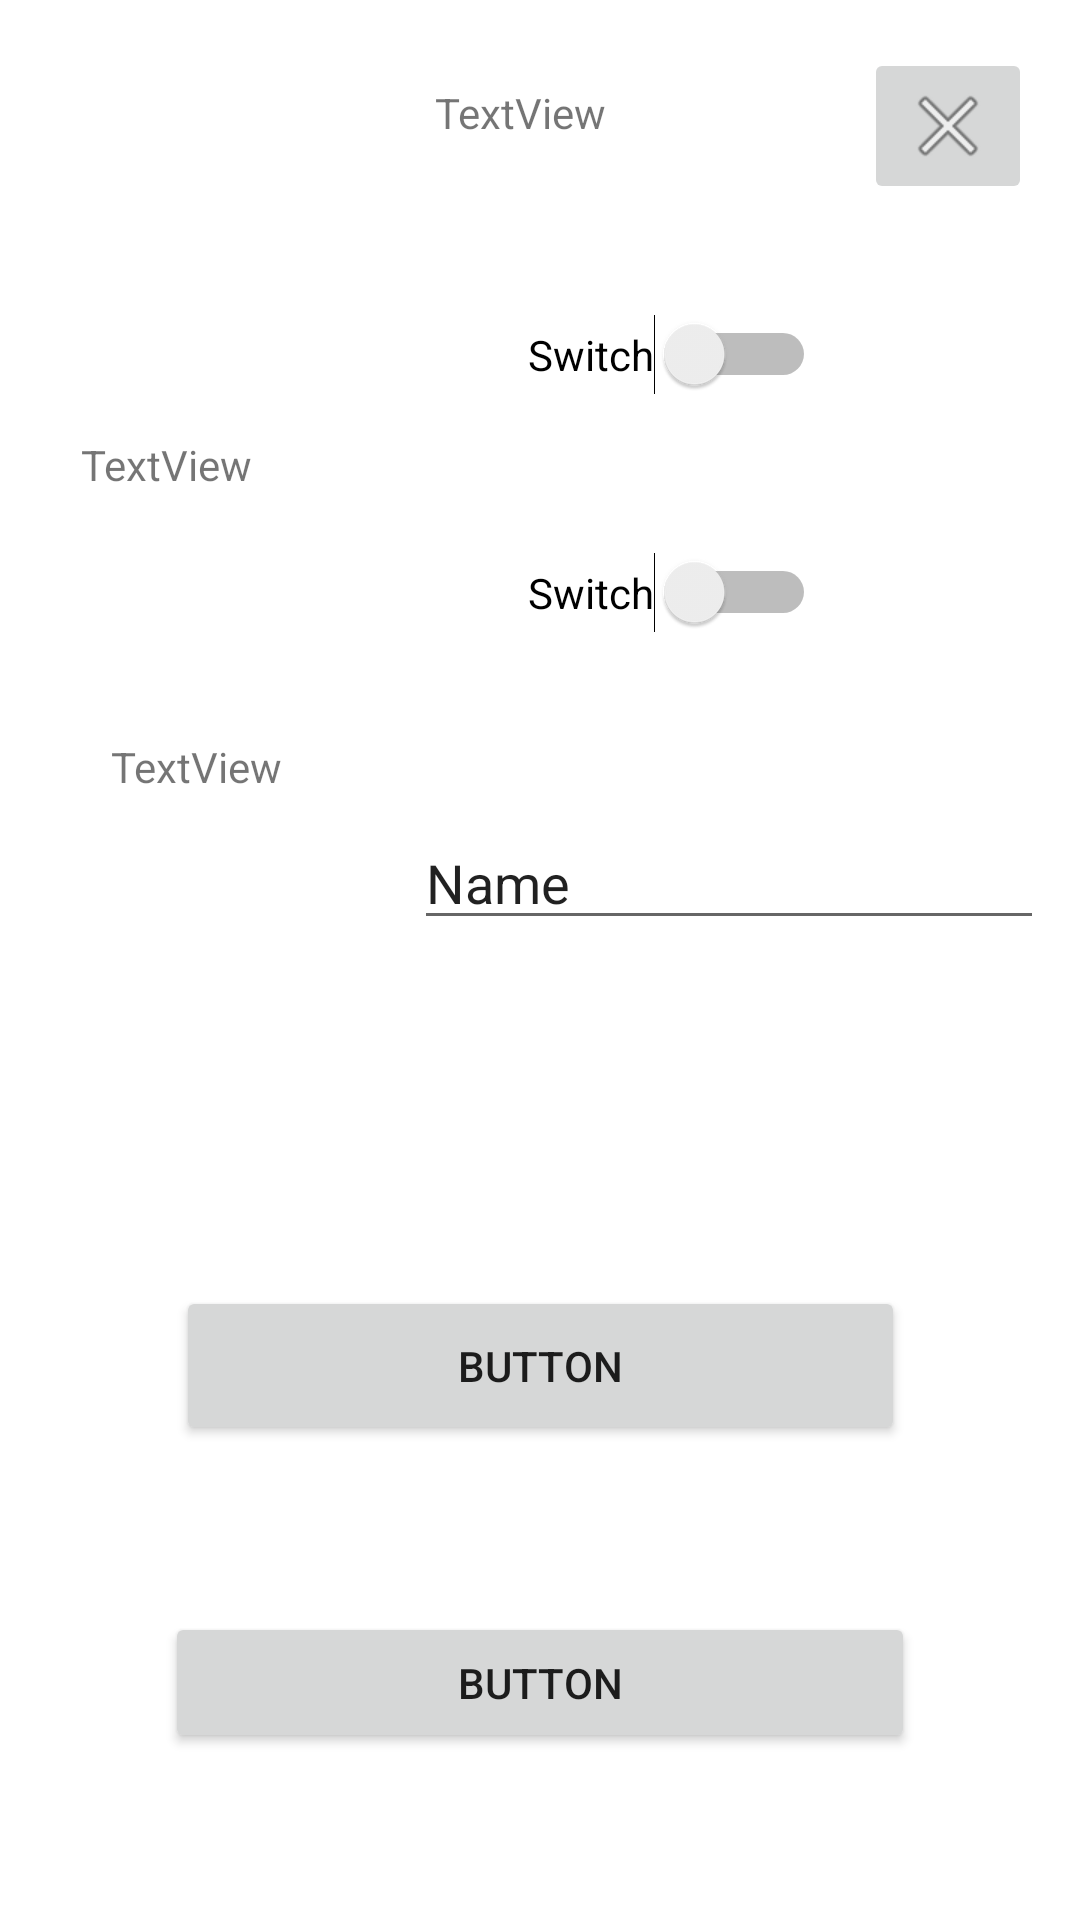

Icons on this 1080 x 1920 Android screen, each with the point to tap as (x=x, y=y):
close clear cancel: (x=948, y=126)
